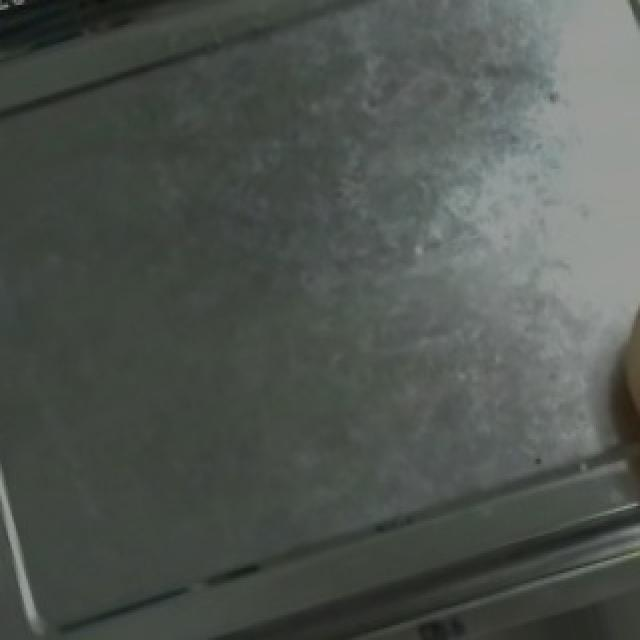Fruit: (588, 223, 640, 481)
